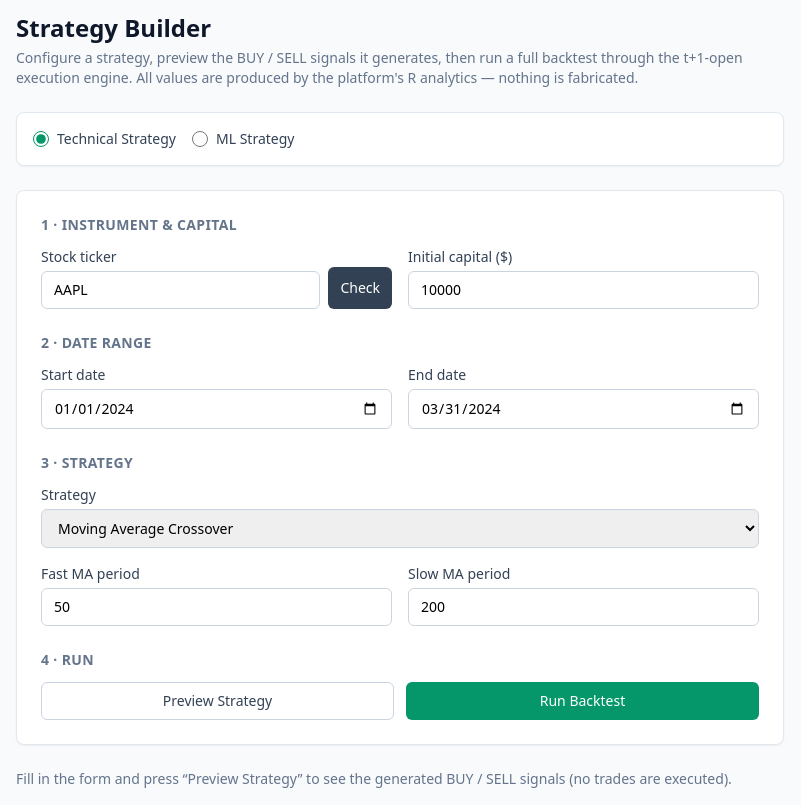
Test: StrategyBuilderPage (Phase 4) › switching to RSI swaps in RSI fields pre-filled with 14 / 30 / 70
This screenshot has width=801, height=805.
Select "Relative Strength Index (RSI)" in the dropdown labelled "Strategy" at coordinates (400, 528), box [41,509,759,548]
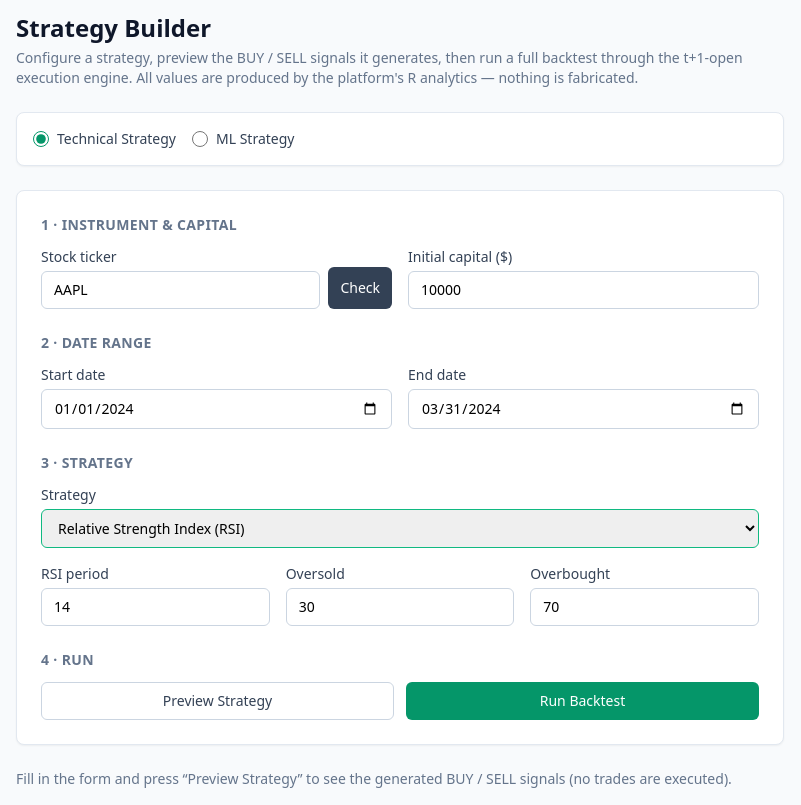
Check: the number field labelled "RSI period" holds "14", box [41,588,270,626]
Check: the number field labelled "Oversold" holds "30", box [286,588,514,626]
Check: the number field labelled "Overbought" holds "70", box [530,588,759,626]
